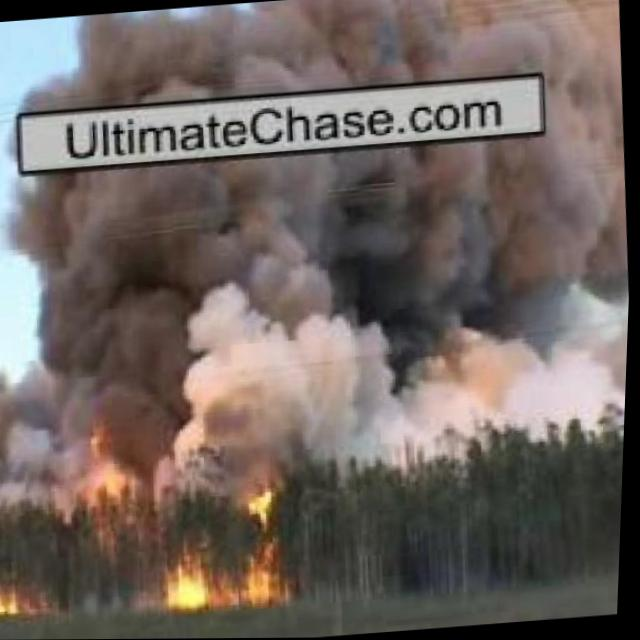Fire: (162, 491, 301, 616), (87, 408, 148, 510), (0, 589, 34, 615)
